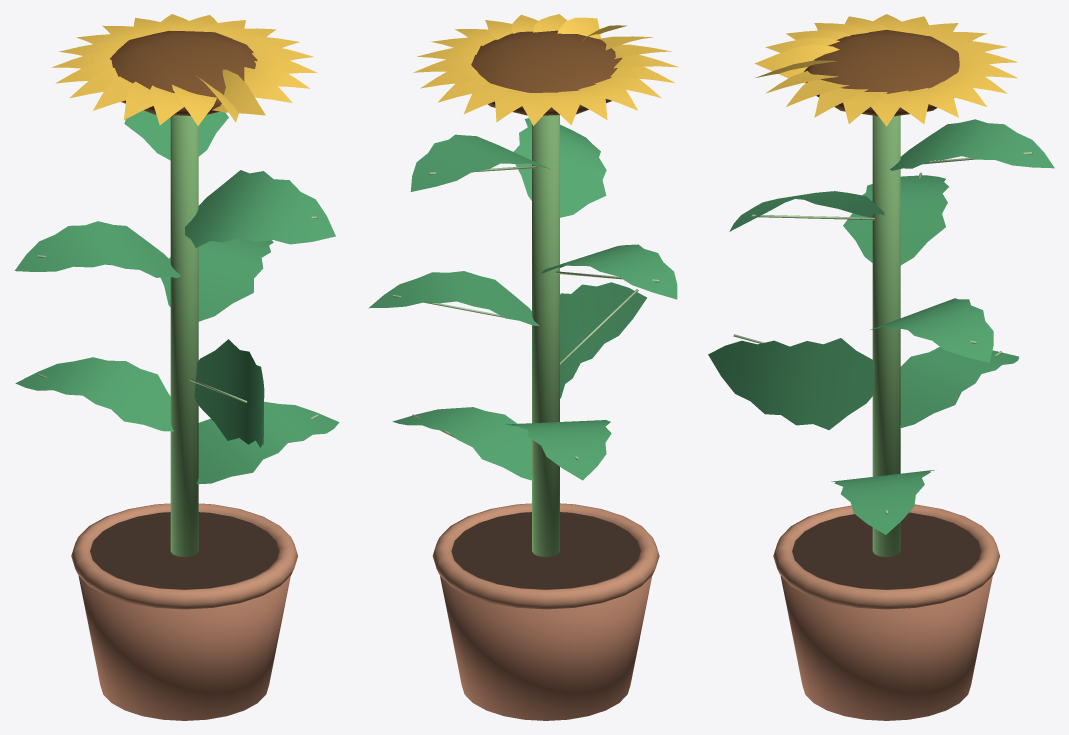
Rendered from sunflower.glb.
3 renders of one model, left to right at view 1: azimuth 30°, elevation 25°; view 2: azimuth 150°, elevation 25°; view 3: azimuth 270°, elevation 25°, orthographic.
Parts seen in each view (by area): view 1: pot_static, stem_g080_sunflower, soil_static, leaf_g570_sunflower_leaf_5, pot_rim_static, flower_center_g780_sunflower, leaf_g210_sunflower_leaf_1, leaf_g480_sunflower_leaf_4, leaf_g300_sunflower_leaf_2, leaf_g120_sunflower_leaf_0, leaf_g390_sunflower_leaf_3, leaf_g660_sunflower_leaf_6 (+12 smaller); view 2: pot_static, stem_g080_sunflower, soil_static, pot_rim_static, flower_center_g780_sunflower, leaf_g300_sunflower_leaf_2, leaf_g120_sunflower_leaf_0, leaf_g390_sunflower_leaf_3, leaf_g570_sunflower_leaf_5, leaf_g660_sunflower_leaf_6, leaf_g210_sunflower_leaf_1, leaf_g480_sunflower_leaf_4 (+13 smaller); view 3: pot_static, stem_g080_sunflower, leaf_g300_sunflower_leaf_2, soil_static, flower_center_g780_sunflower, pot_rim_static, leaf_g210_sunflower_leaf_1, leaf_g660_sunflower_leaf_6, leaf_g480_sunflower_leaf_4, leaf_g390_sunflower_leaf_3, leaf_g120_sunflower_leaf_0, leaf_g570_sunflower_leaf_5 (+9 smaller).
Boxes of the visible parts, x1,y1,x2,y2 form: pot_static: [78, 575, 290, 720]; stem_g080_sunflower: [170, 115, 198, 557]; soil_static: [90, 512, 279, 589]; leaf_g570_sunflower_leaf_5: [184, 170, 335, 247]; pot_rim_static: [71, 503, 297, 609]; flower_center_g780_sunflower: [110, 30, 257, 115]; leaf_g210_sunflower_leaf_1: [15, 357, 173, 431]; leaf_g480_sunflower_leaf_4: [14, 221, 181, 277]; leaf_g300_sunflower_leaf_2: [194, 339, 264, 447]; leaf_g120_sunflower_leaf_0: [197, 401, 339, 484]; leaf_g390_sunflower_leaf_3: [160, 237, 273, 321]; leaf_g660_sunflower_leaf_6: [124, 110, 228, 160]; pot_static: [440, 576, 651, 720]; stem_g080_sunflower: [532, 115, 559, 557]; soil_static: [451, 512, 640, 589]; pot_rim_static: [432, 503, 659, 609]; flower_center_g780_sunflower: [471, 30, 622, 115]; leaf_g300_sunflower_leaf_2: [560, 282, 646, 398]; leaf_g120_sunflower_leaf_0: [392, 407, 533, 480]; leaf_g390_sunflower_leaf_3: [368, 271, 539, 325]; leaf_g570_sunflower_leaf_5: [513, 118, 606, 217]; leaf_g660_sunflower_leaf_6: [410, 134, 550, 191]; leaf_g210_sunflower_leaf_1: [506, 420, 611, 480]; leaf_g480_sunflower_leaf_4: [541, 244, 677, 299]; pot_static: [780, 575, 992, 720]; stem_g080_sunflower: [872, 115, 900, 557]; leaf_g300_sunflower_leaf_2: [708, 338, 874, 429]; soil_static: [792, 512, 981, 589]; flower_center_g780_sunflower: [804, 29, 959, 116]; pot_rim_static: [773, 504, 999, 609]; leaf_g210_sunflower_leaf_1: [899, 347, 1019, 428]; leaf_g660_sunflower_leaf_6: [890, 119, 1054, 170]; leaf_g480_sunflower_leaf_4: [843, 175, 948, 265]; leaf_g390_sunflower_leaf_3: [870, 298, 993, 362]; leaf_g120_sunflower_leaf_0: [831, 470, 934, 534]; leaf_g570_sunflower_leaf_5: [729, 191, 884, 231].
Size of the model in its own units: 0.6055 by 1.2 by 0.5963.
